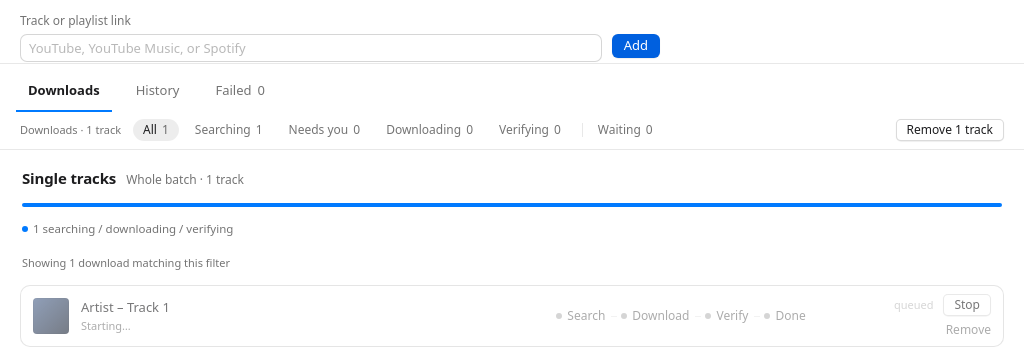
Scenario: filter bar, remove and clear failed › shows "Nothing here." when a filter hides every row
The image size is (1024, 364).
Click the tab "History".
click(158, 92)  # box [124, 72, 191, 112]
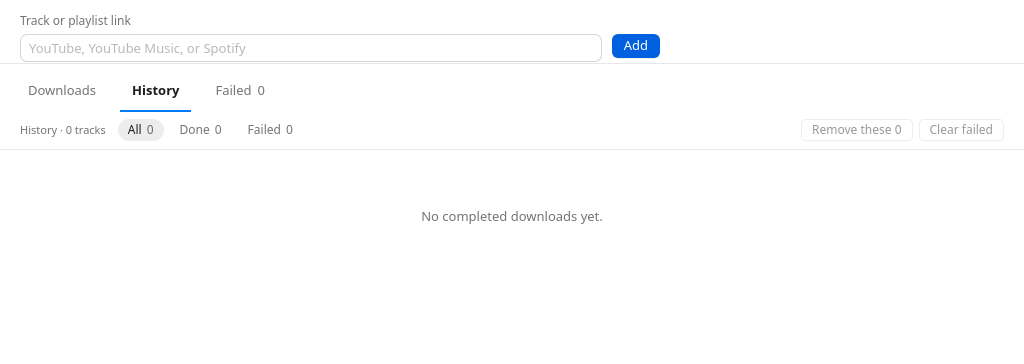
Result: the text "No completed downloads yet." is shown at [421, 206, 603, 224]
